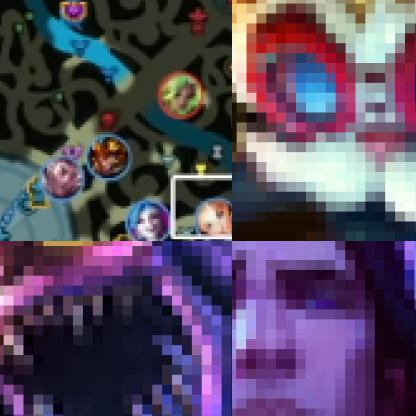Heimerdinger: (232, 0, 415, 240)
Jarvan IV: (88, 135, 131, 179)
Jinx: (124, 201, 171, 240)
Lux: (196, 197, 231, 240)
Rakan: (42, 157, 84, 202)
Skarner: (0, 241, 231, 415)
Taric: (232, 241, 415, 415)
Zeri: (157, 73, 204, 120)
